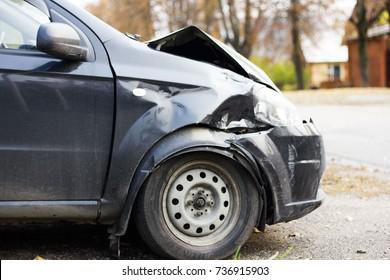fender-dent: (115, 70, 245, 162)
front-bumper-dent: (247, 114, 330, 230)
